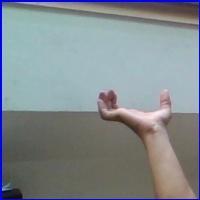space: (93, 84, 180, 133)
